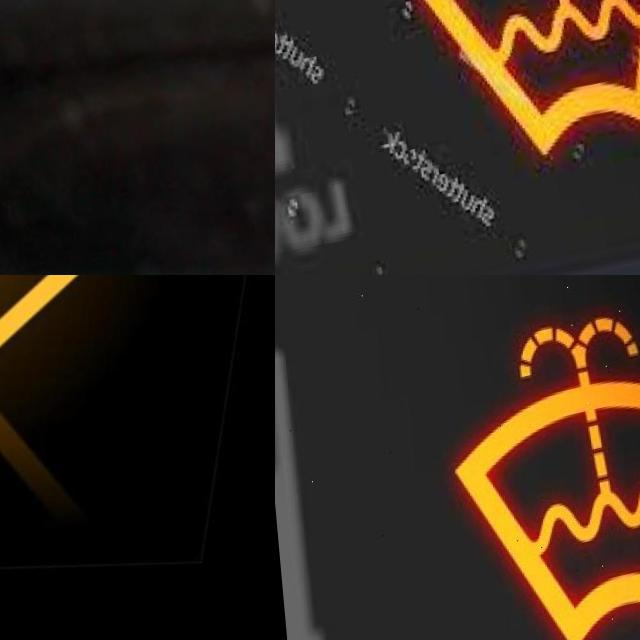Washer Fluid: (442, 311, 640, 640), (397, 0, 640, 189), (0, 275, 137, 429)
